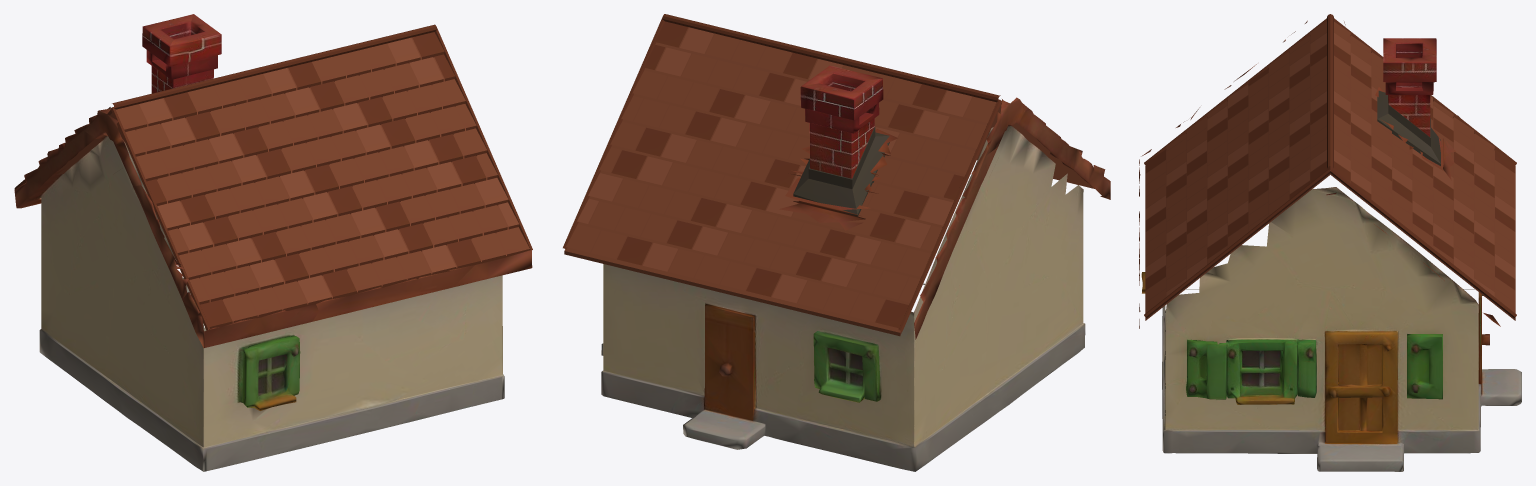
File: farmhouse.baseline.glb
3 renders of one model, left to right at view 1: azimuth 30°, elevation 25°; view 2: azimuth 150°, elevation 25°; view 3: azimuth 270°, elevation 25°, orthographic. The views are drawn at different scales.
Parts seen in each view (by area): view 1: FarmhouseBody; view 2: FarmhouseBody; view 3: FarmhouseBody.
Boxes of the visible parts, bbox=[...] form: FarmhouseBody: bbox=[14, 14, 532, 471]; FarmhouseBody: bbox=[563, 14, 1110, 471]; FarmhouseBody: bbox=[1139, 14, 1521, 471].
Size of the model in its own units: 6 by 5.23 by 5.84.
1 material, 1 textured.
